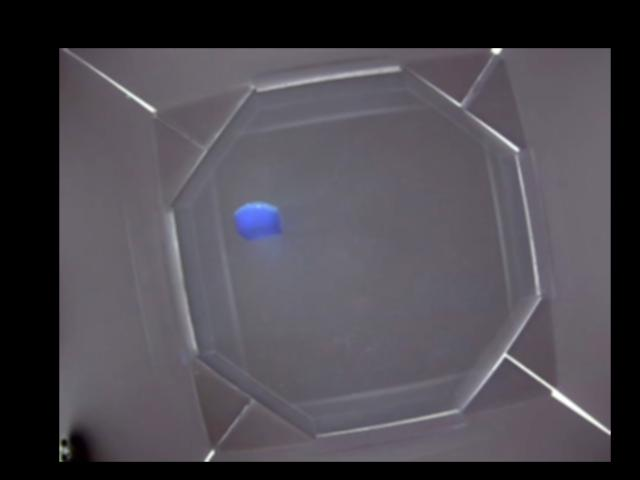Potato: (235, 200, 281, 240)
